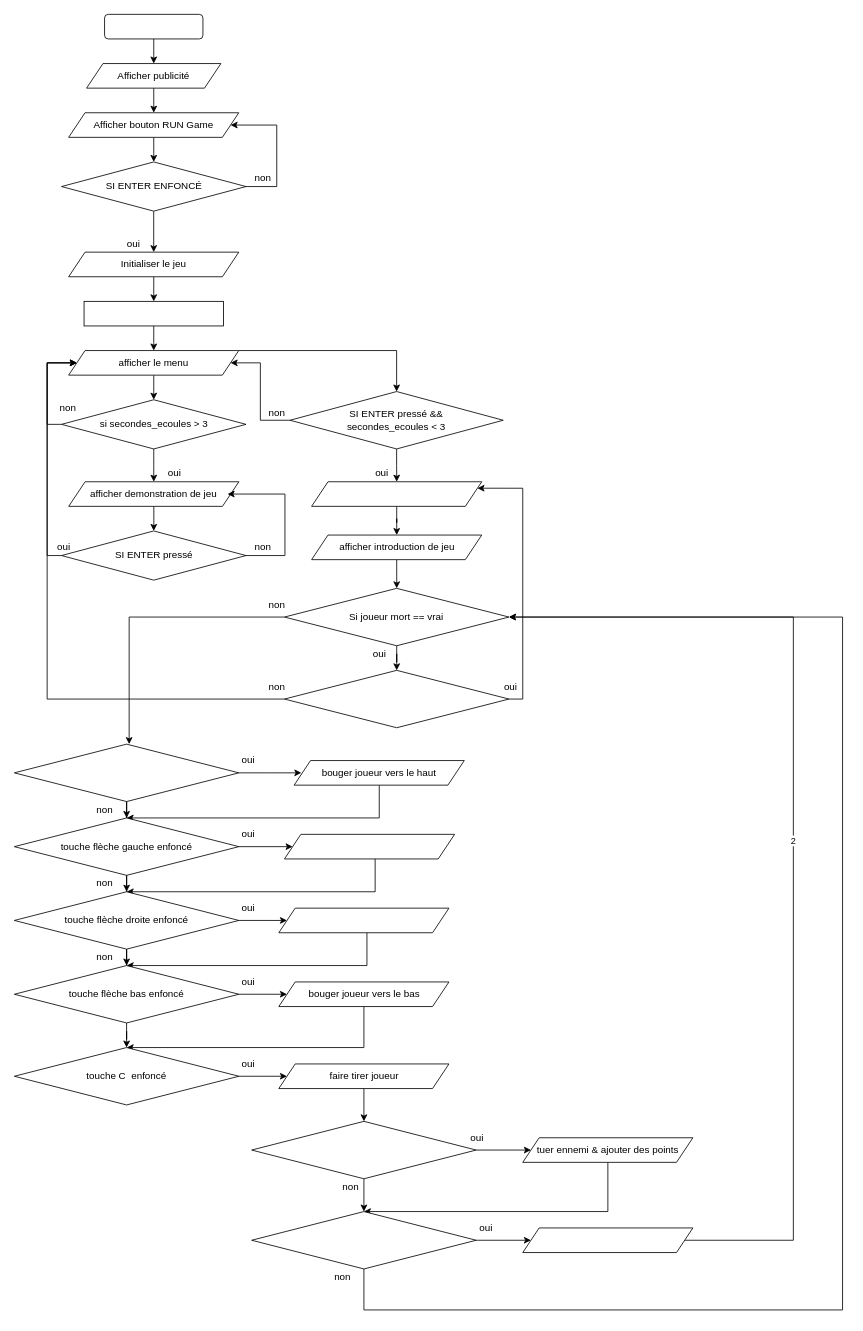
This 863x1331 diagram has some shape labels left out. Here are the shapes that lost their labels. From the top down, the centre of each, then its label:
At [153,26]: "Début".
At [153,313]: "int secondes_ecoules = 0;".
At [396,493]: "afficher interface de jeu".
At [396,699]: "credit != 0".
At [126,772]: "touche flèche haut enfoncé".
At [369,846]: "bouger joueur vers la gauche".
At [363,920]: "bouger joueur vers la droite".
At [363,1150]: "Si tir touche ennemi".
At [363,1240]: "si joueur touche ennemi".
At [607,1240]: "tuer_joueur et credit--".
